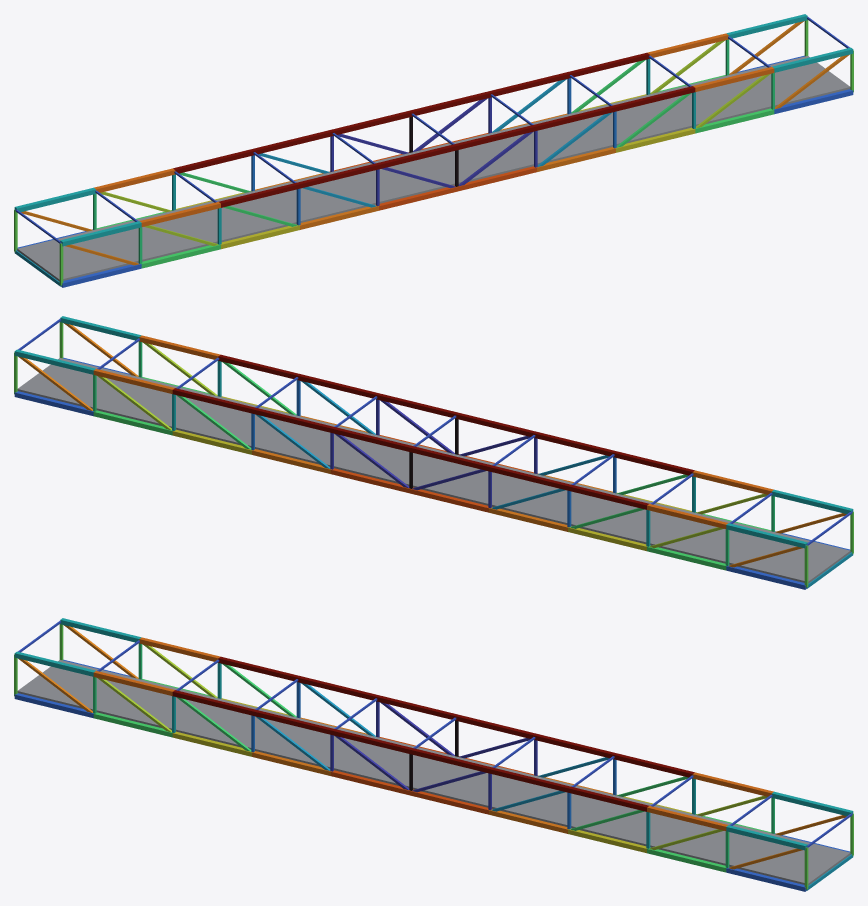
The model's file is 30_1.5_10_HEA160.glb.
The picture shows the model from 3 angles, top to bottom: view 1: azimuth 30°, elevation 25°; view 2: azimuth 150°, elevation 25°; view 3: azimuth 330°, elevation 25°; orthographic projection.
Bounding box in the file's own units: 30.09 × 1.66 × 3.16.
